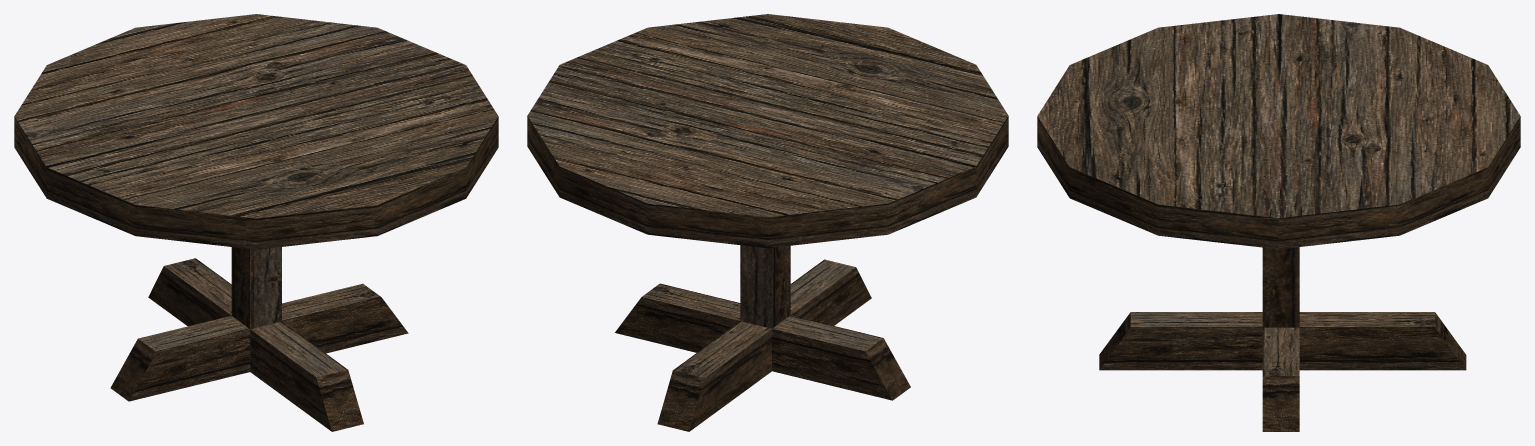
The model's file is mm9_deco_tableround4.glb.
The picture shows the model from 3 angles, left to right: view 1: azimuth 30°, elevation 25°; view 2: azimuth 150°, elevation 25°; view 3: azimuth 270°, elevation 25°; orthographic projection.
Parts seen in each view (by area): view 1: Tableround4; view 2: Tableround4; view 3: Tableround4.
Boxes of the visible parts, box(x1,y1,x2,y2) form: Tableround4: box(14, 14, 498, 431); Tableround4: box(527, 14, 1008, 431); Tableround4: box(1037, 14, 1520, 431).
Bounding box in the file's own units: 2.02 × 1.13 × 2.02.
Materials: 2 (2 with a texture image).
